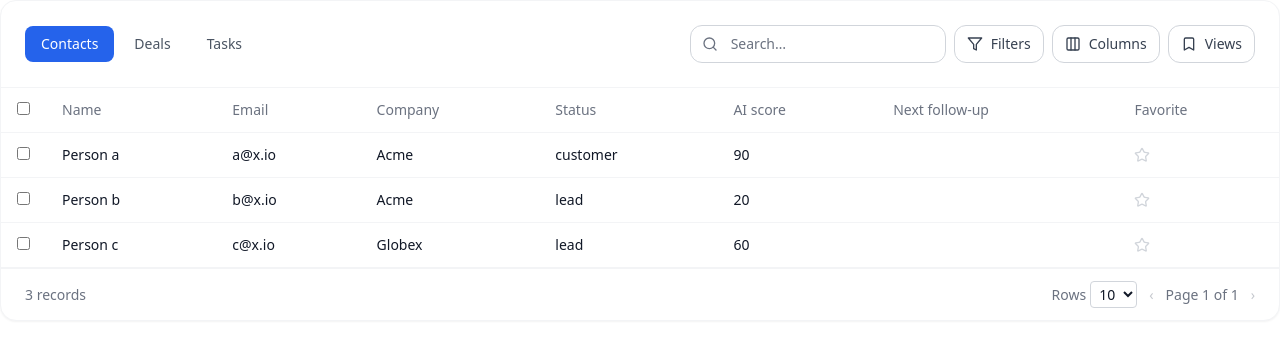
Test case: RecordTable › saves the current filters/sort/columns as a view and applies it later
Click the button "AI score": (760, 110) [733,100,786,120]
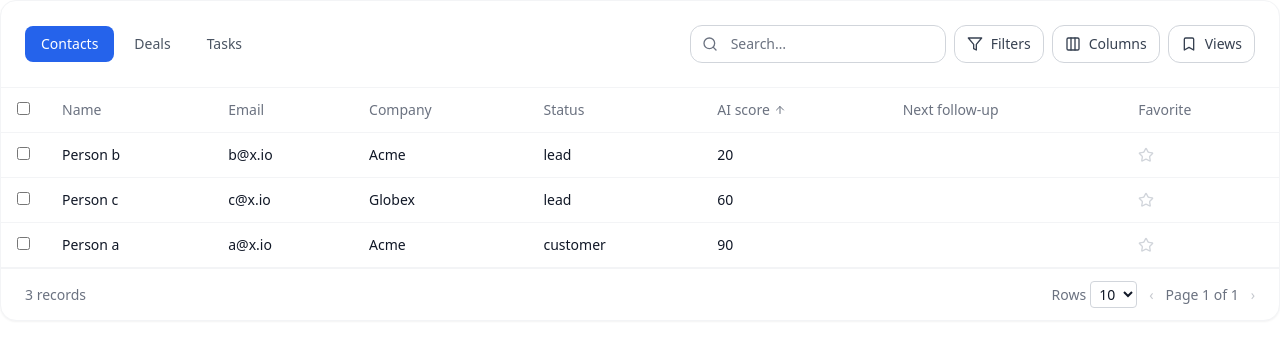
Click the button with aria-label "Saved table views": (1211, 44) [1168,25,1255,63]
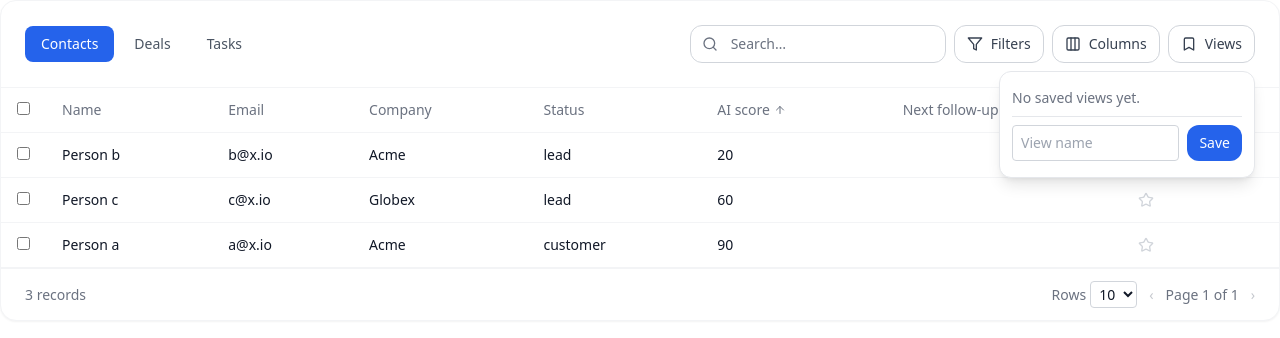
In the field named "Table view name": (1096, 143) [1012,125,1179,161], type "Low scores"
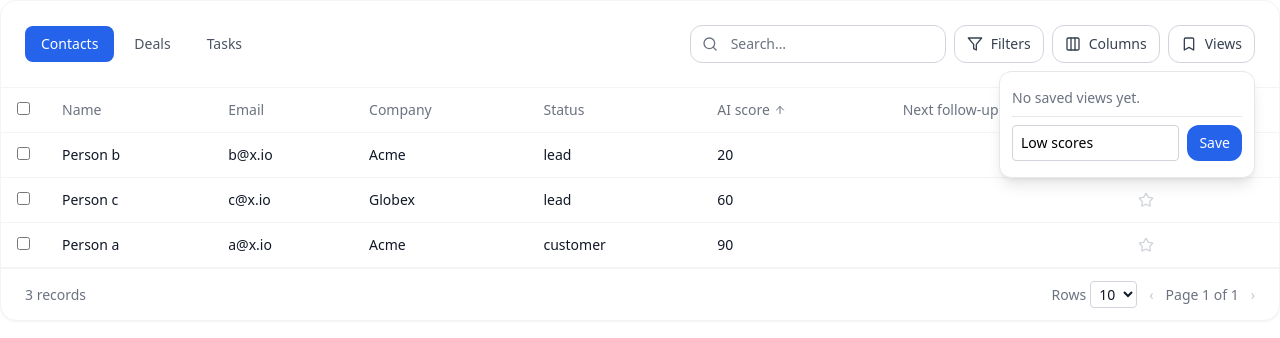
Click the button "Save": (1215, 143) [1187,125,1242,161]
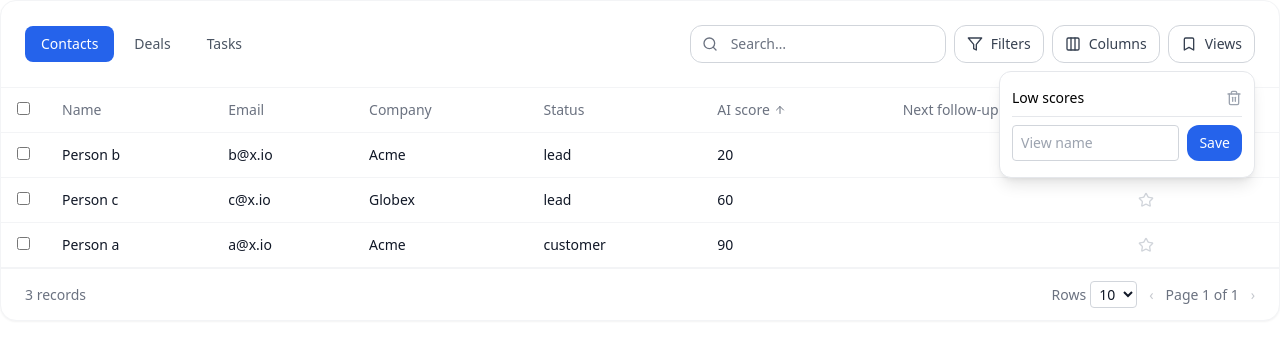
expect the button "Low scores" is shown: met, box [1012,88,1084,108]
